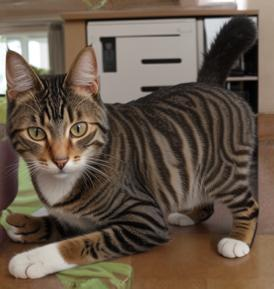cat: (6, 10, 258, 278)
